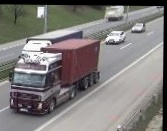truck: (10, 37, 100, 115), (20, 27, 84, 61), (104, 5, 126, 20)
